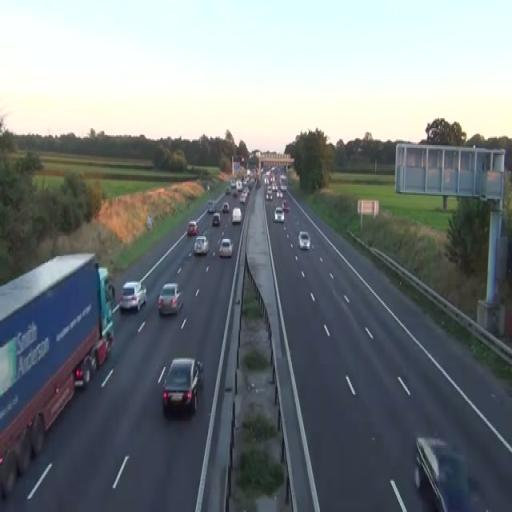Car: (162, 358, 203, 417), (119, 280, 147, 313), (157, 282, 184, 316), (218, 237, 233, 259), (193, 236, 209, 256), (298, 231, 310, 251), (232, 208, 242, 224), (274, 207, 284, 223), (212, 212, 221, 226)
Truck: (0, 253, 116, 499)
